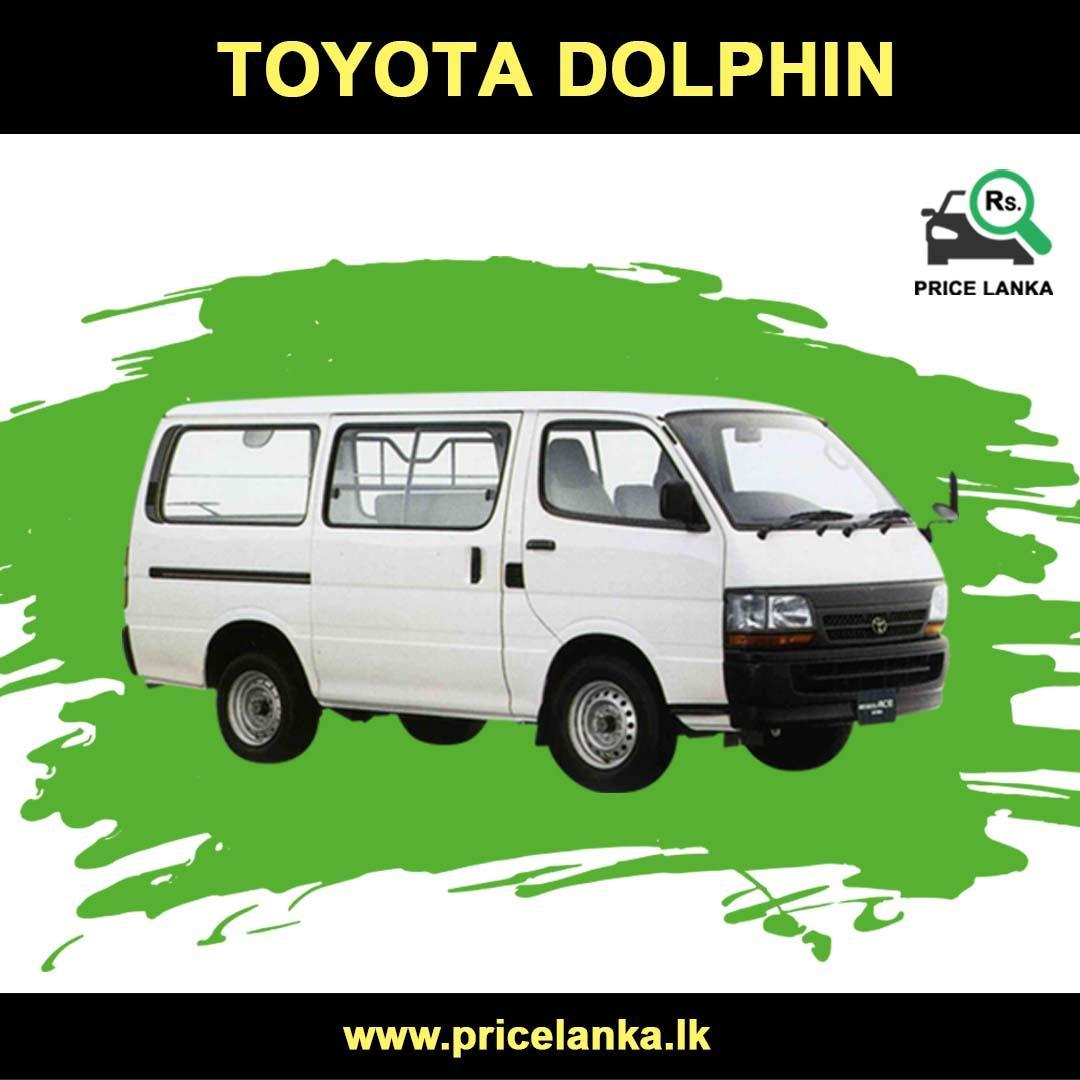car: (130, 384, 968, 804)
